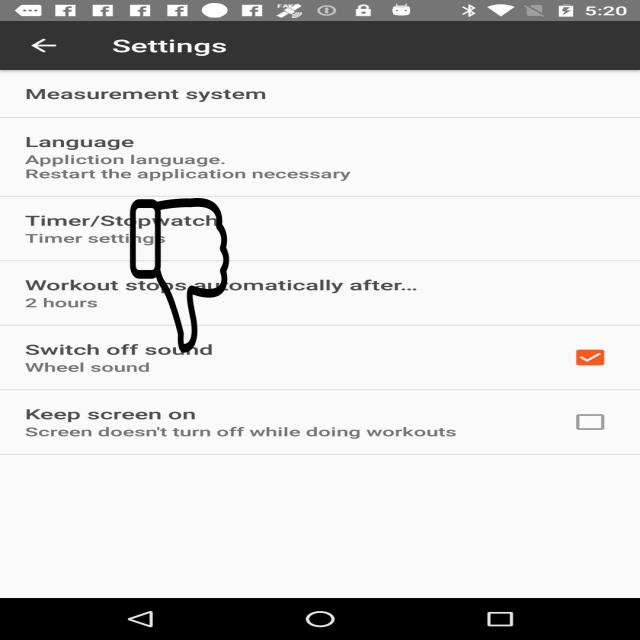obstruction: (128, 198, 230, 353)
